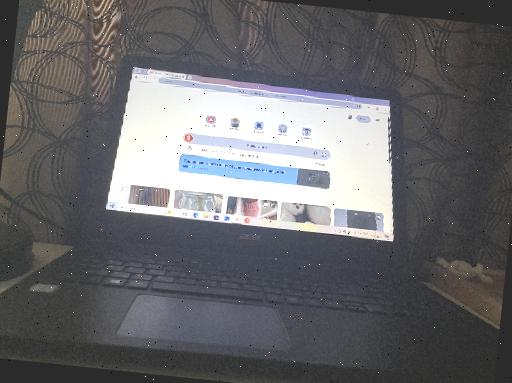yandex: (103, 79, 405, 232)
